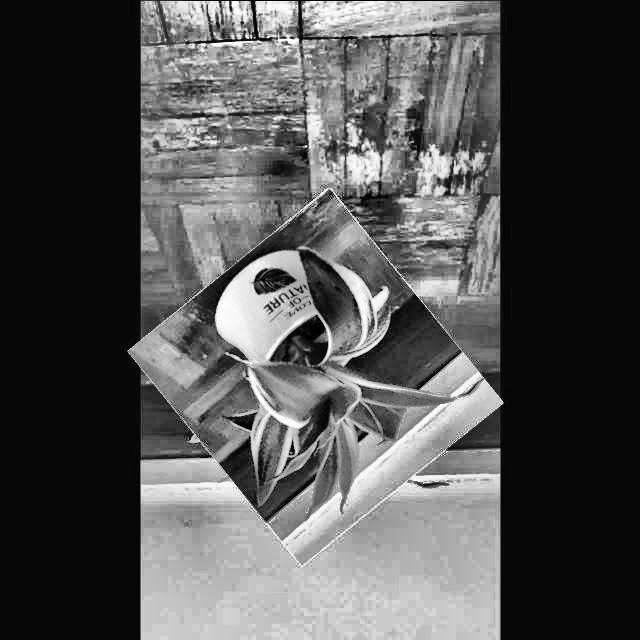plants: (156, 212, 474, 540)
